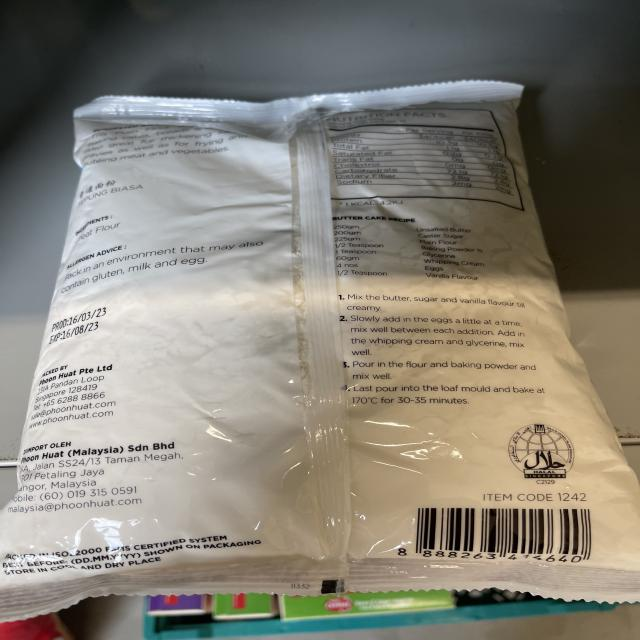object_name: (71, 105, 610, 593)
